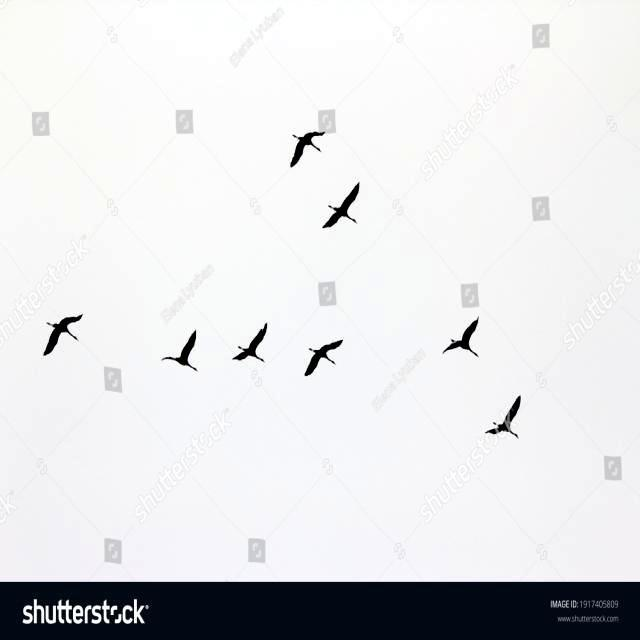bird: (318, 182, 373, 240), (472, 397, 533, 444), (41, 306, 90, 364), (299, 328, 350, 382), (156, 328, 212, 376), (442, 318, 490, 371), (282, 124, 330, 175), (228, 322, 280, 369)
